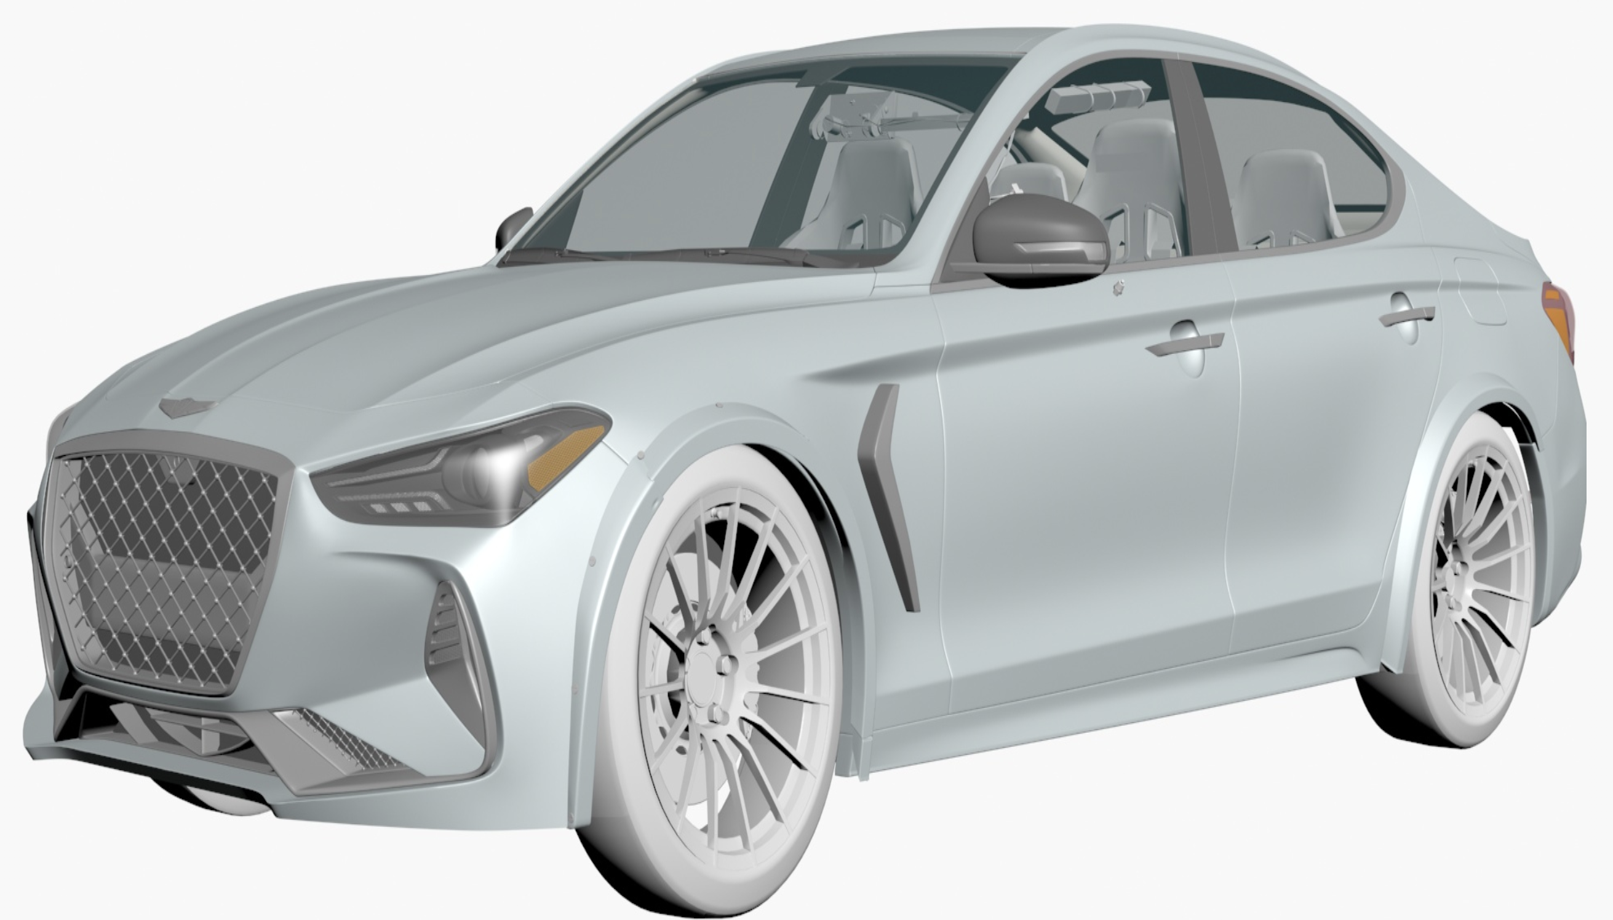hatch: (1447, 251, 1519, 333)
